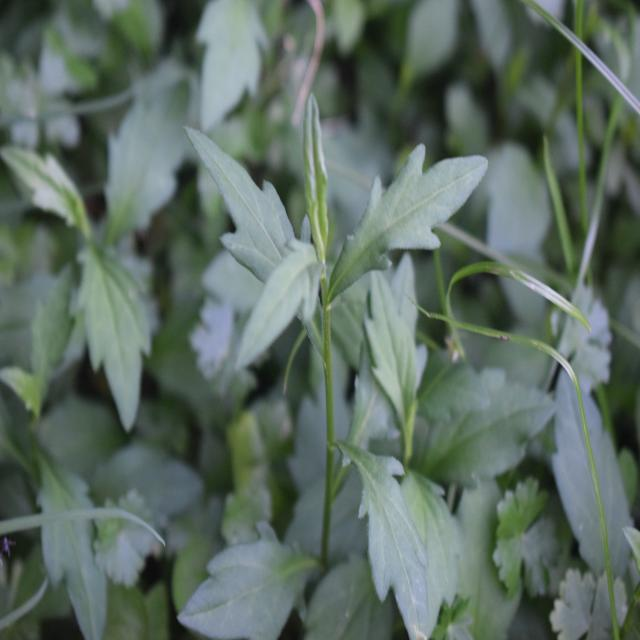Indian aster: (194, 113, 460, 582)
